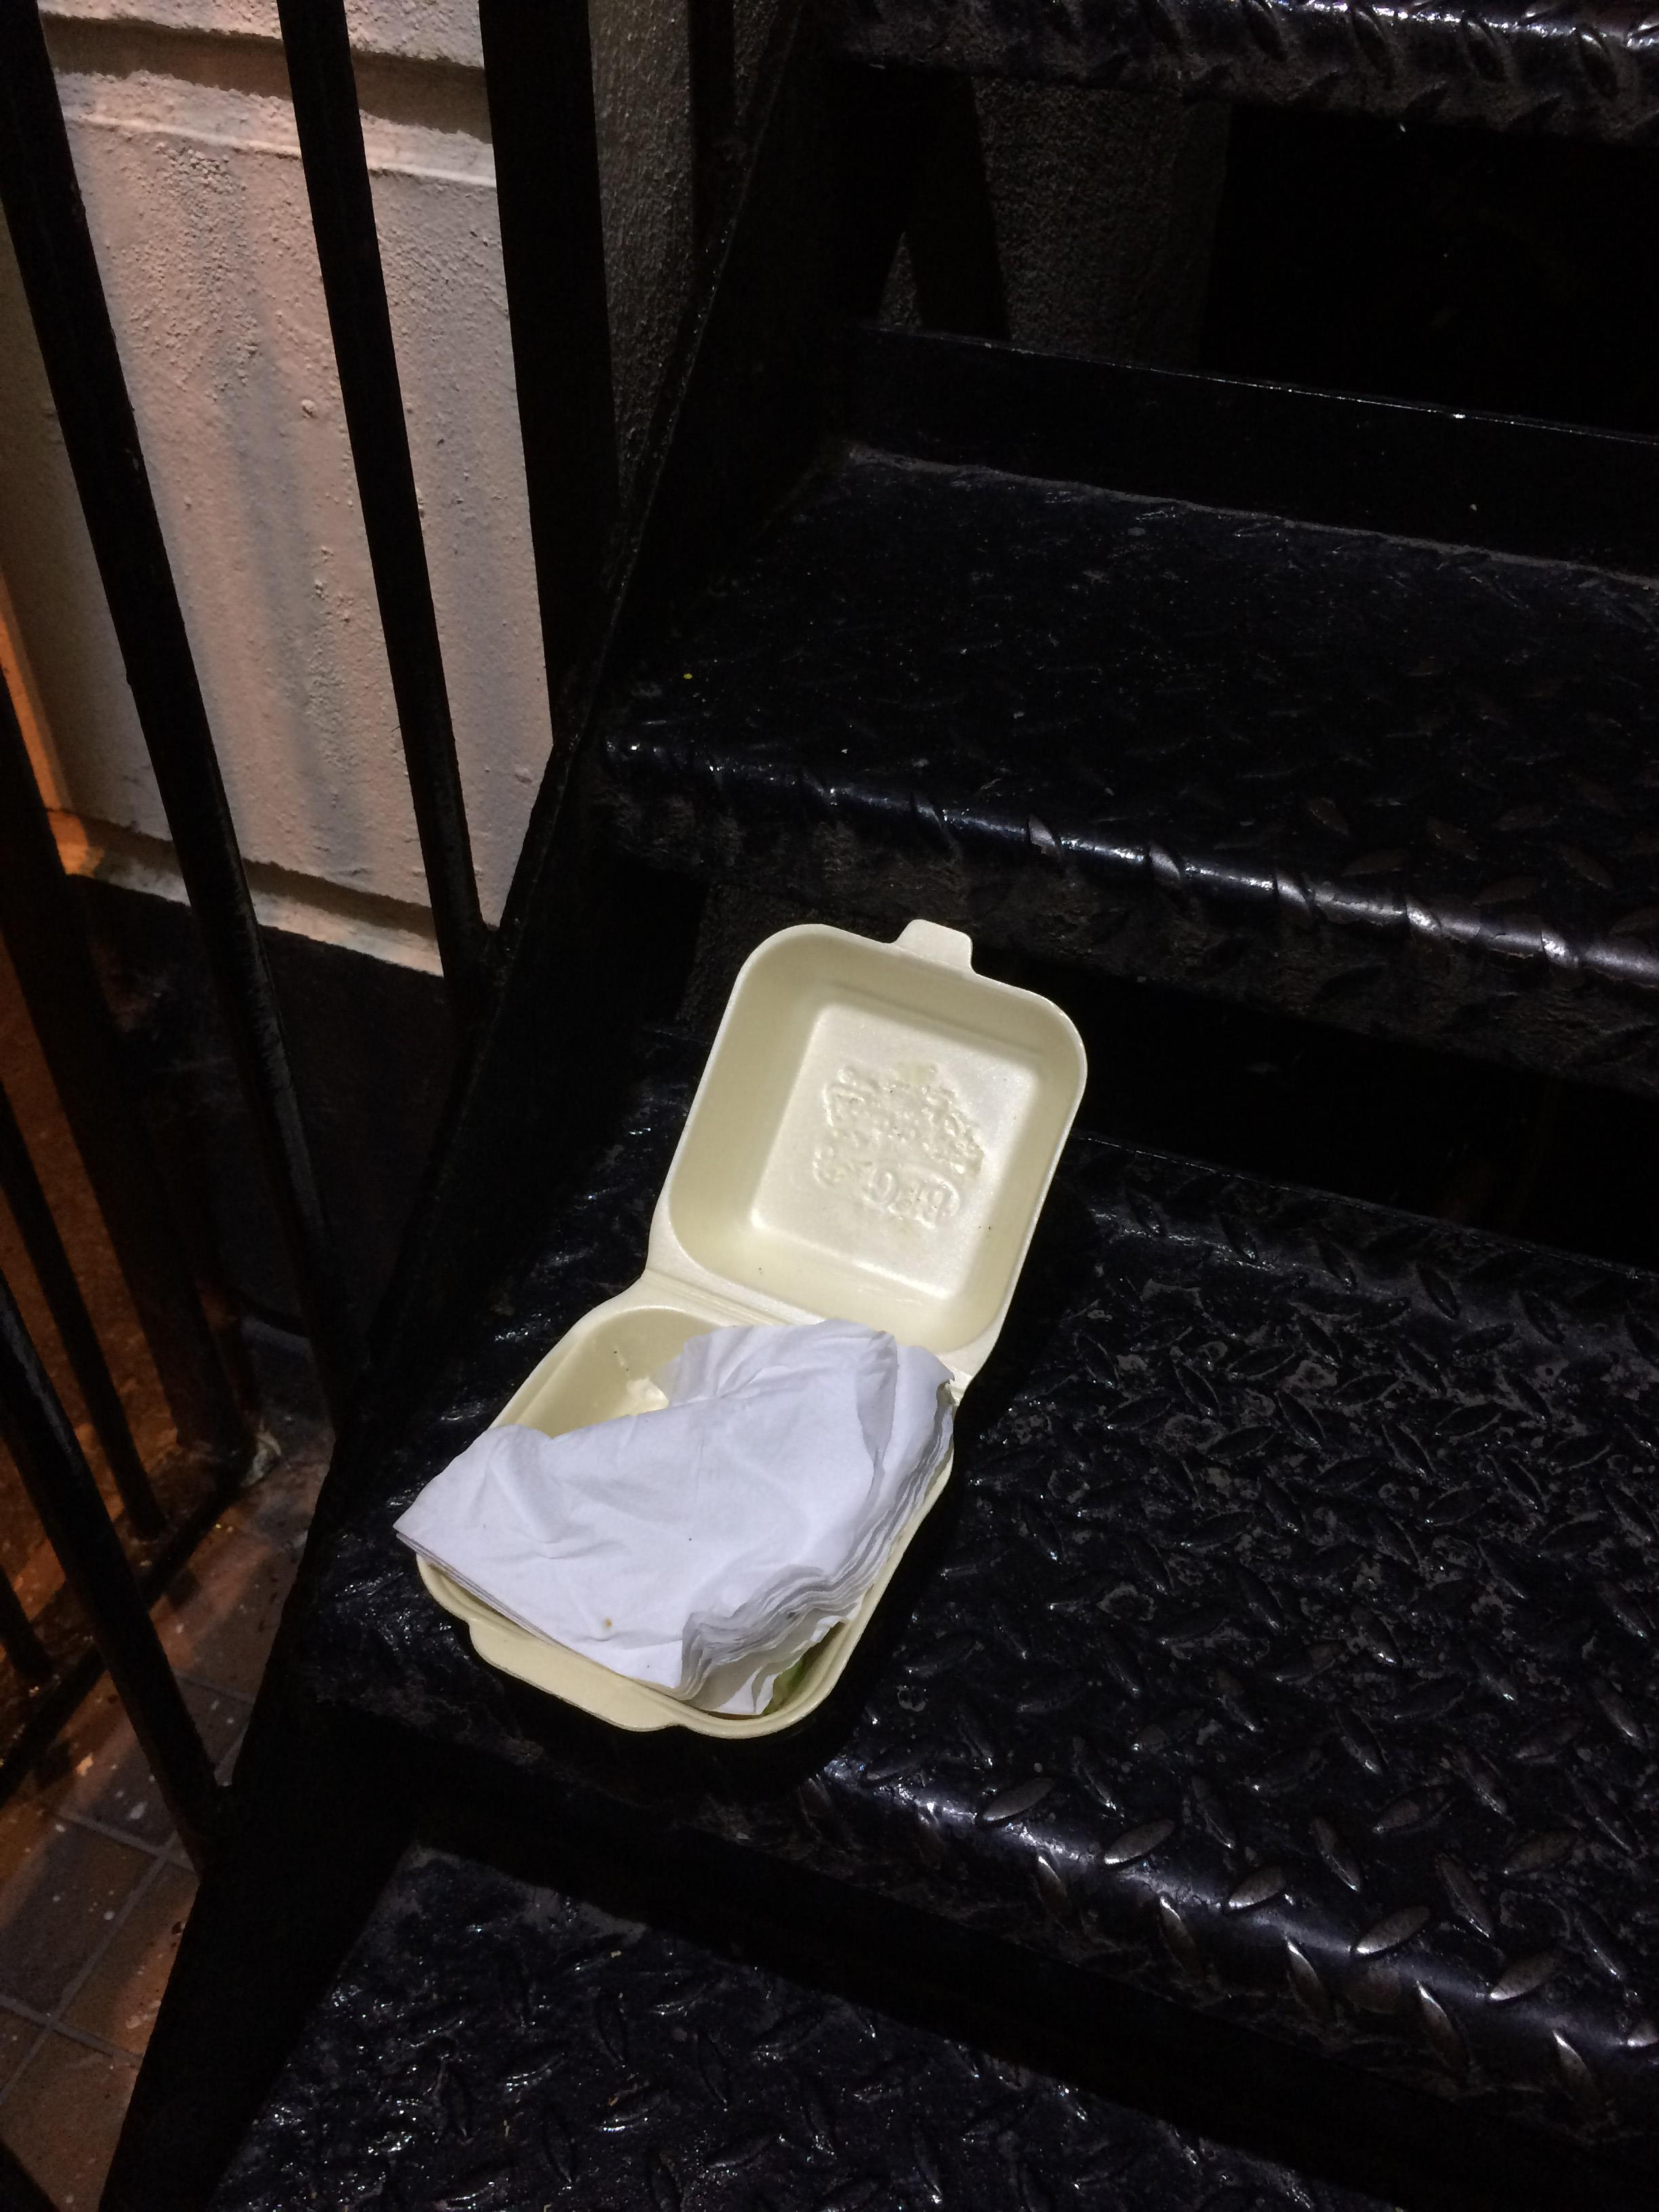Trash: (389, 918, 1122, 1738)
